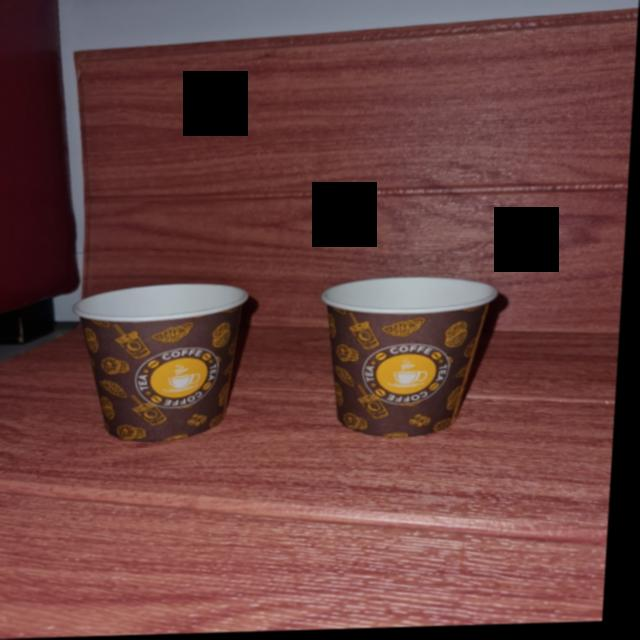cups: (67, 280, 257, 447), (314, 276, 504, 442)
